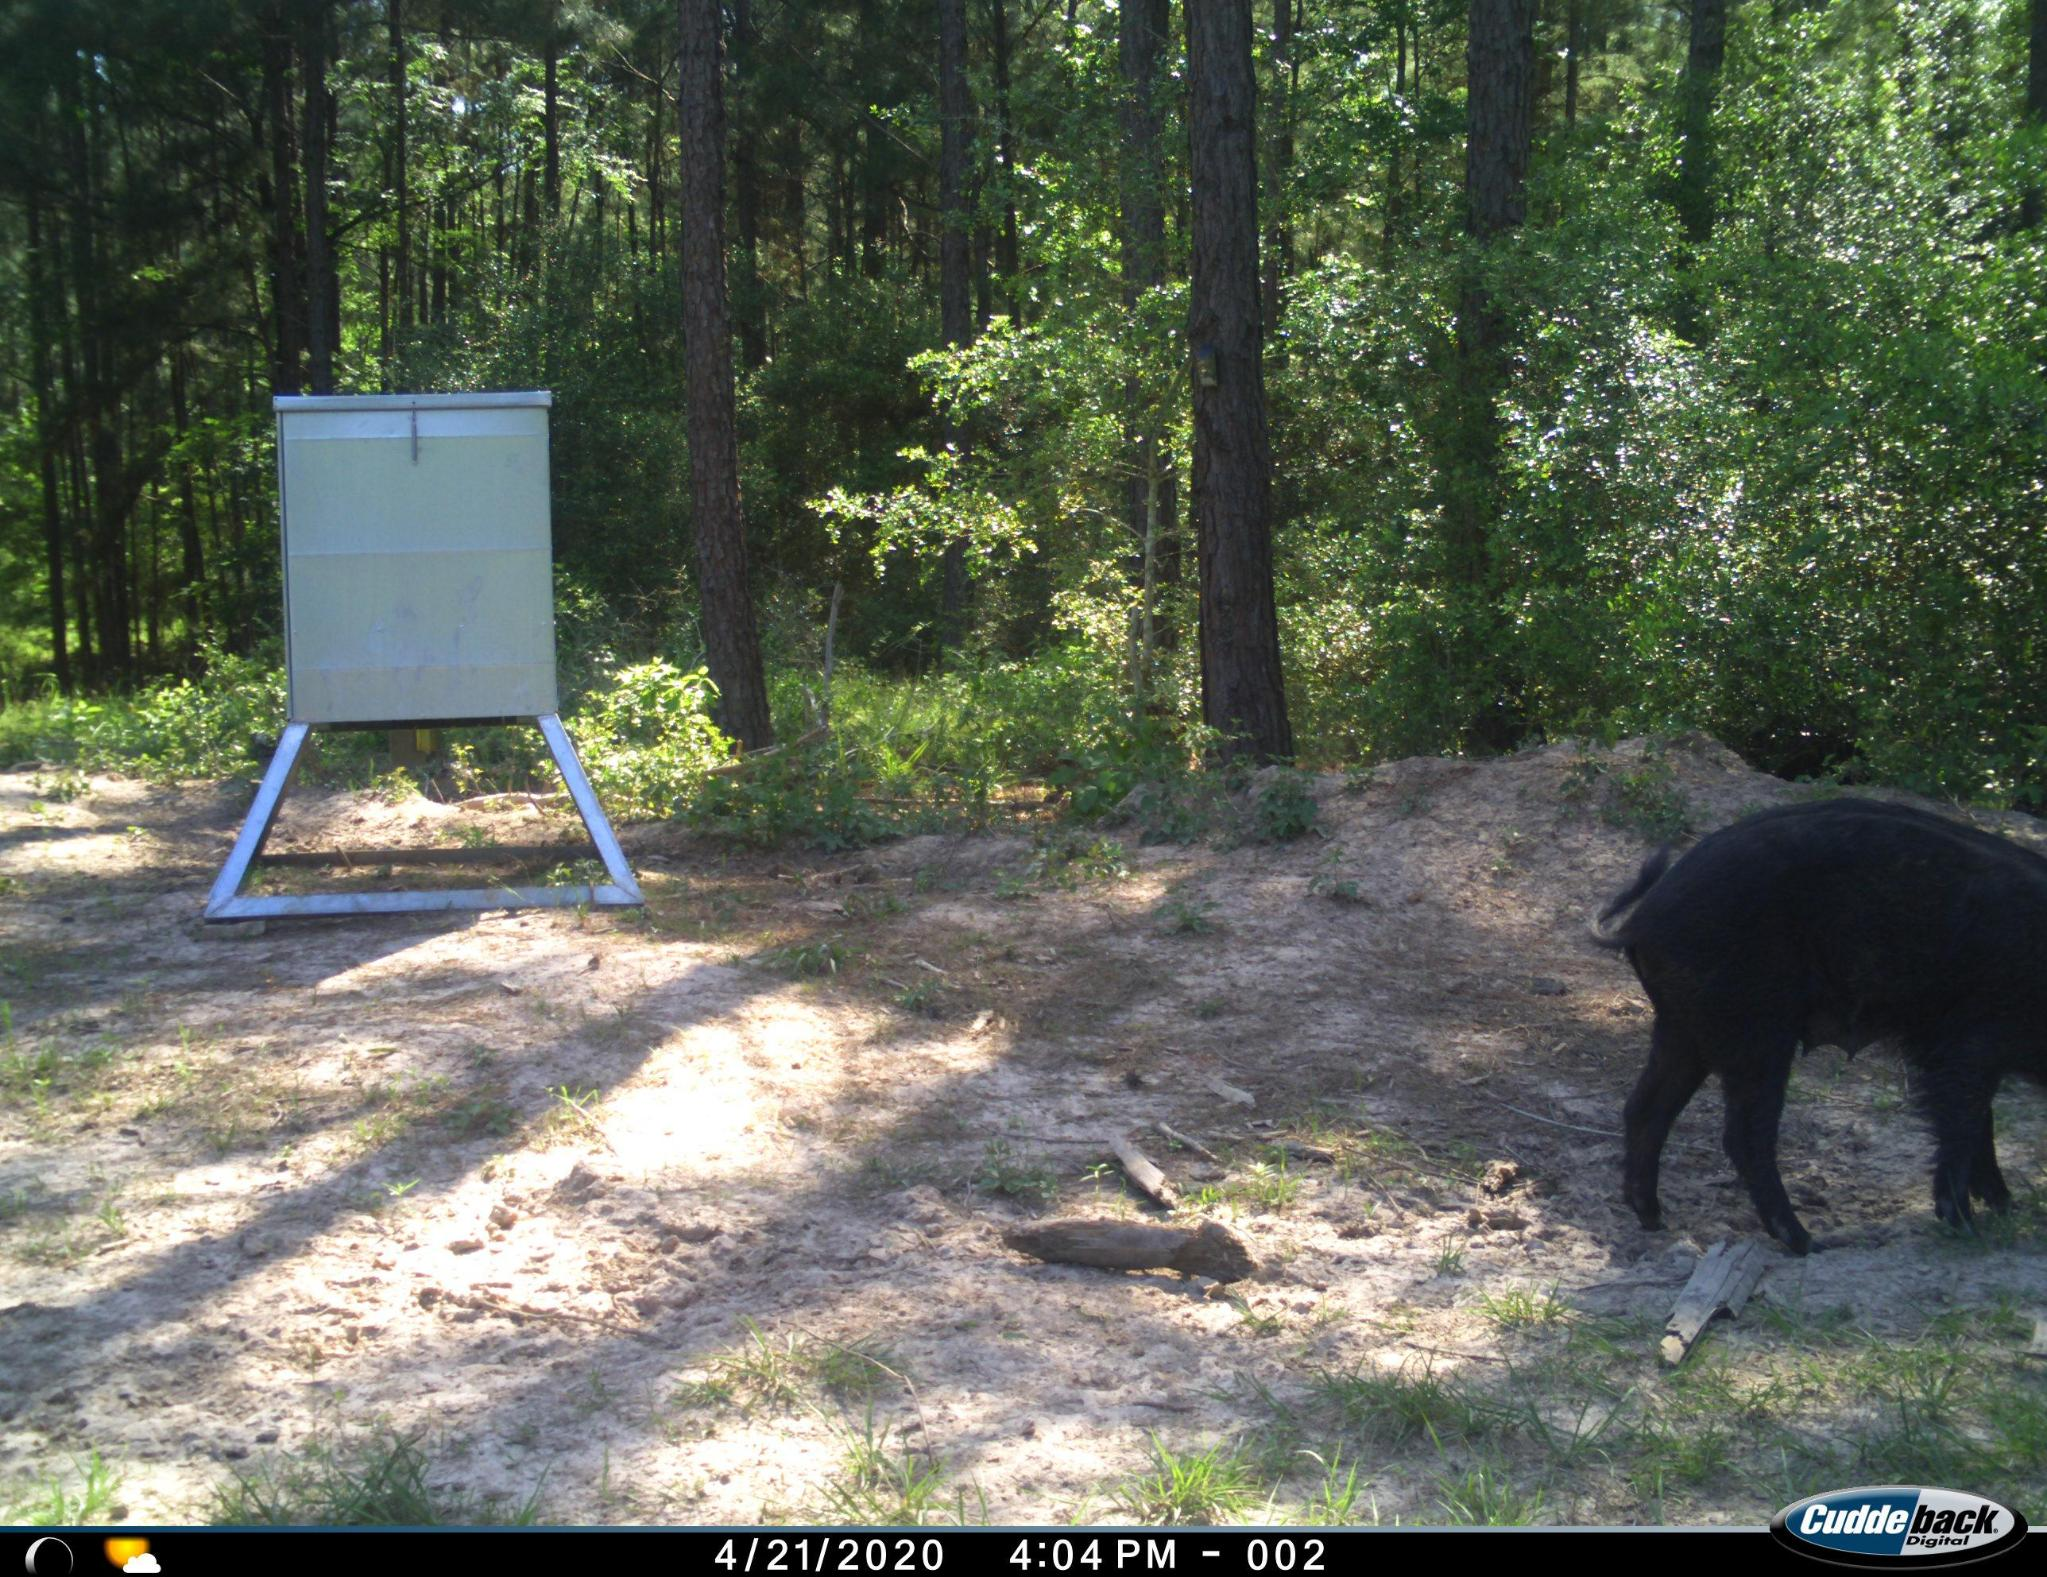Hog: (1563, 793, 2047, 1257)
